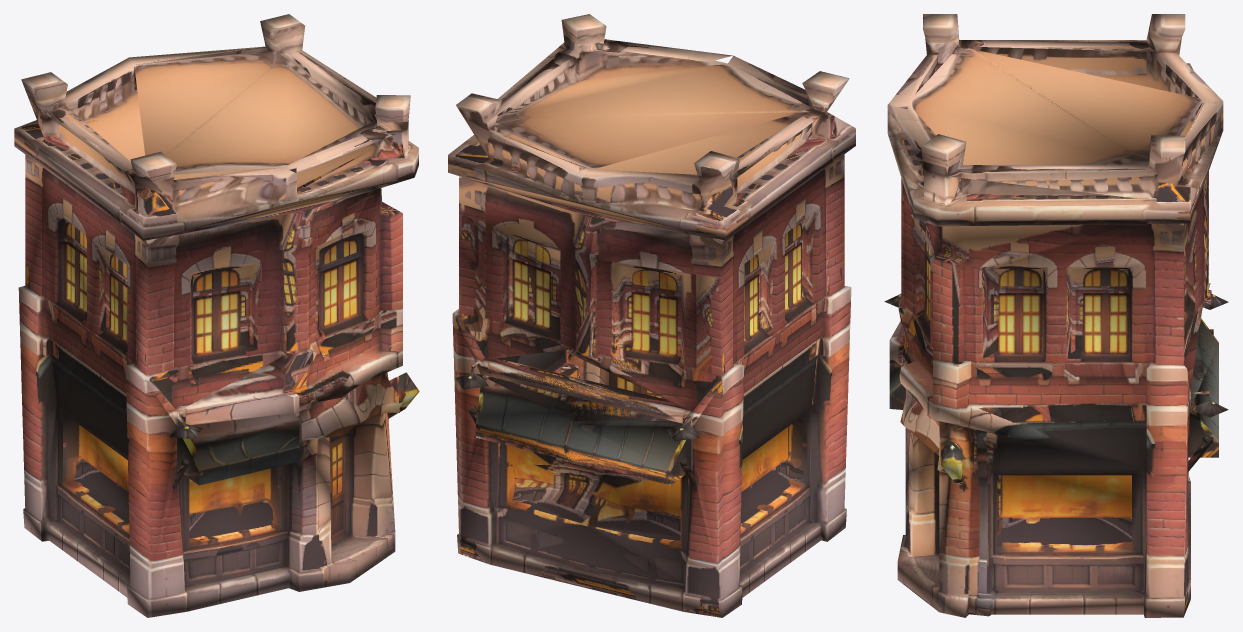
Rendered from 02-brick-corner-shop.fbx.
The picture shows the model from 3 angles, left to right: view 1: azimuth 30°, elevation 25°; view 2: azimuth 150°, elevation 25°; view 3: azimuth 270°, elevation 25°; orthographic projection. The views are drawn at different scales.
Visible parts, largest first — view 1: tripo_node_28a5d8b2; view 2: tripo_node_28a5d8b2; view 3: tripo_node_28a5d8b2.
Part boxes in pixels (box(x1,y1,x2,y2)): tripo_node_28a5d8b2: box(14, 14, 419, 617); tripo_node_28a5d8b2: box(448, 14, 855, 617); tripo_node_28a5d8b2: box(884, 14, 1228, 617).
Bounding box in the file's own units: 600 × 900 × 600.
1 material, 1 textured.
